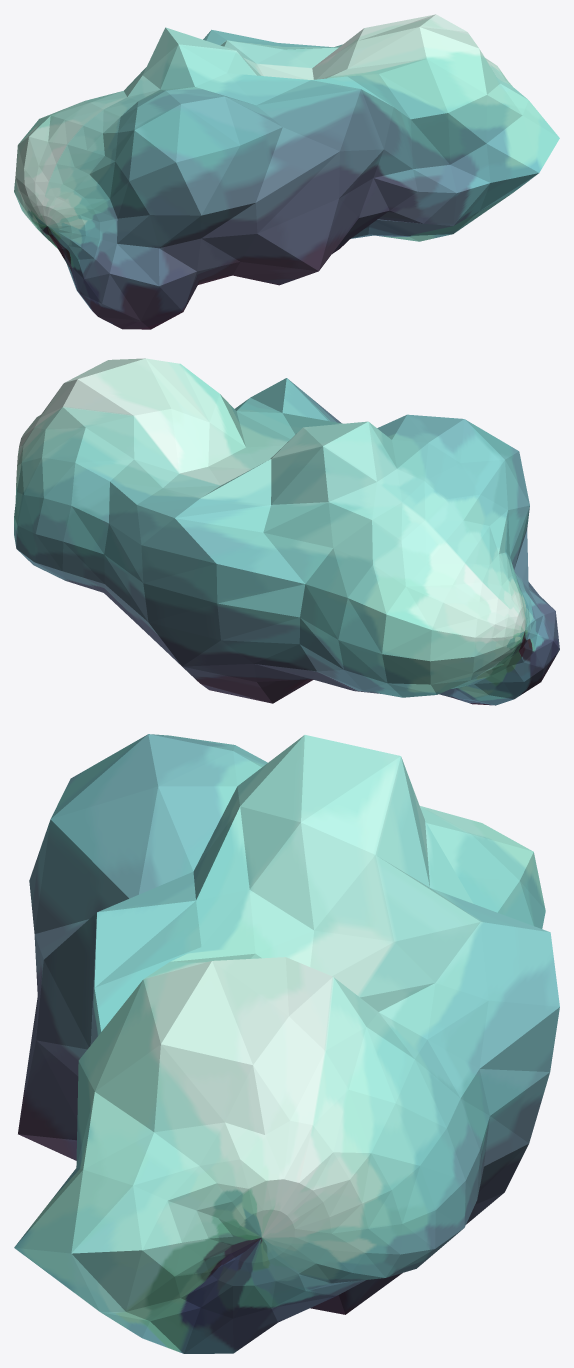
File: CloudClair.fbx
The picture shows the model from 3 angles, top to bottom: view 1: azimuth 30°, elevation 25°; view 2: azimuth 150°, elevation 25°; view 3: azimuth 270°, elevation 25°; orthographic projection. The views are drawn at different scales.
Visible parts, largest first — view 1: cloudClair; view 2: cloudClair; view 3: cloudClair.
Part boxes in pixels (x1,y1,x2,y2): cloudClair: (14,14,559,329); cloudClair: (14,358,559,705); cloudClair: (14,734,559,1353).
Bounding box in the file's own units: 8.95 × 4.72 × 5.
